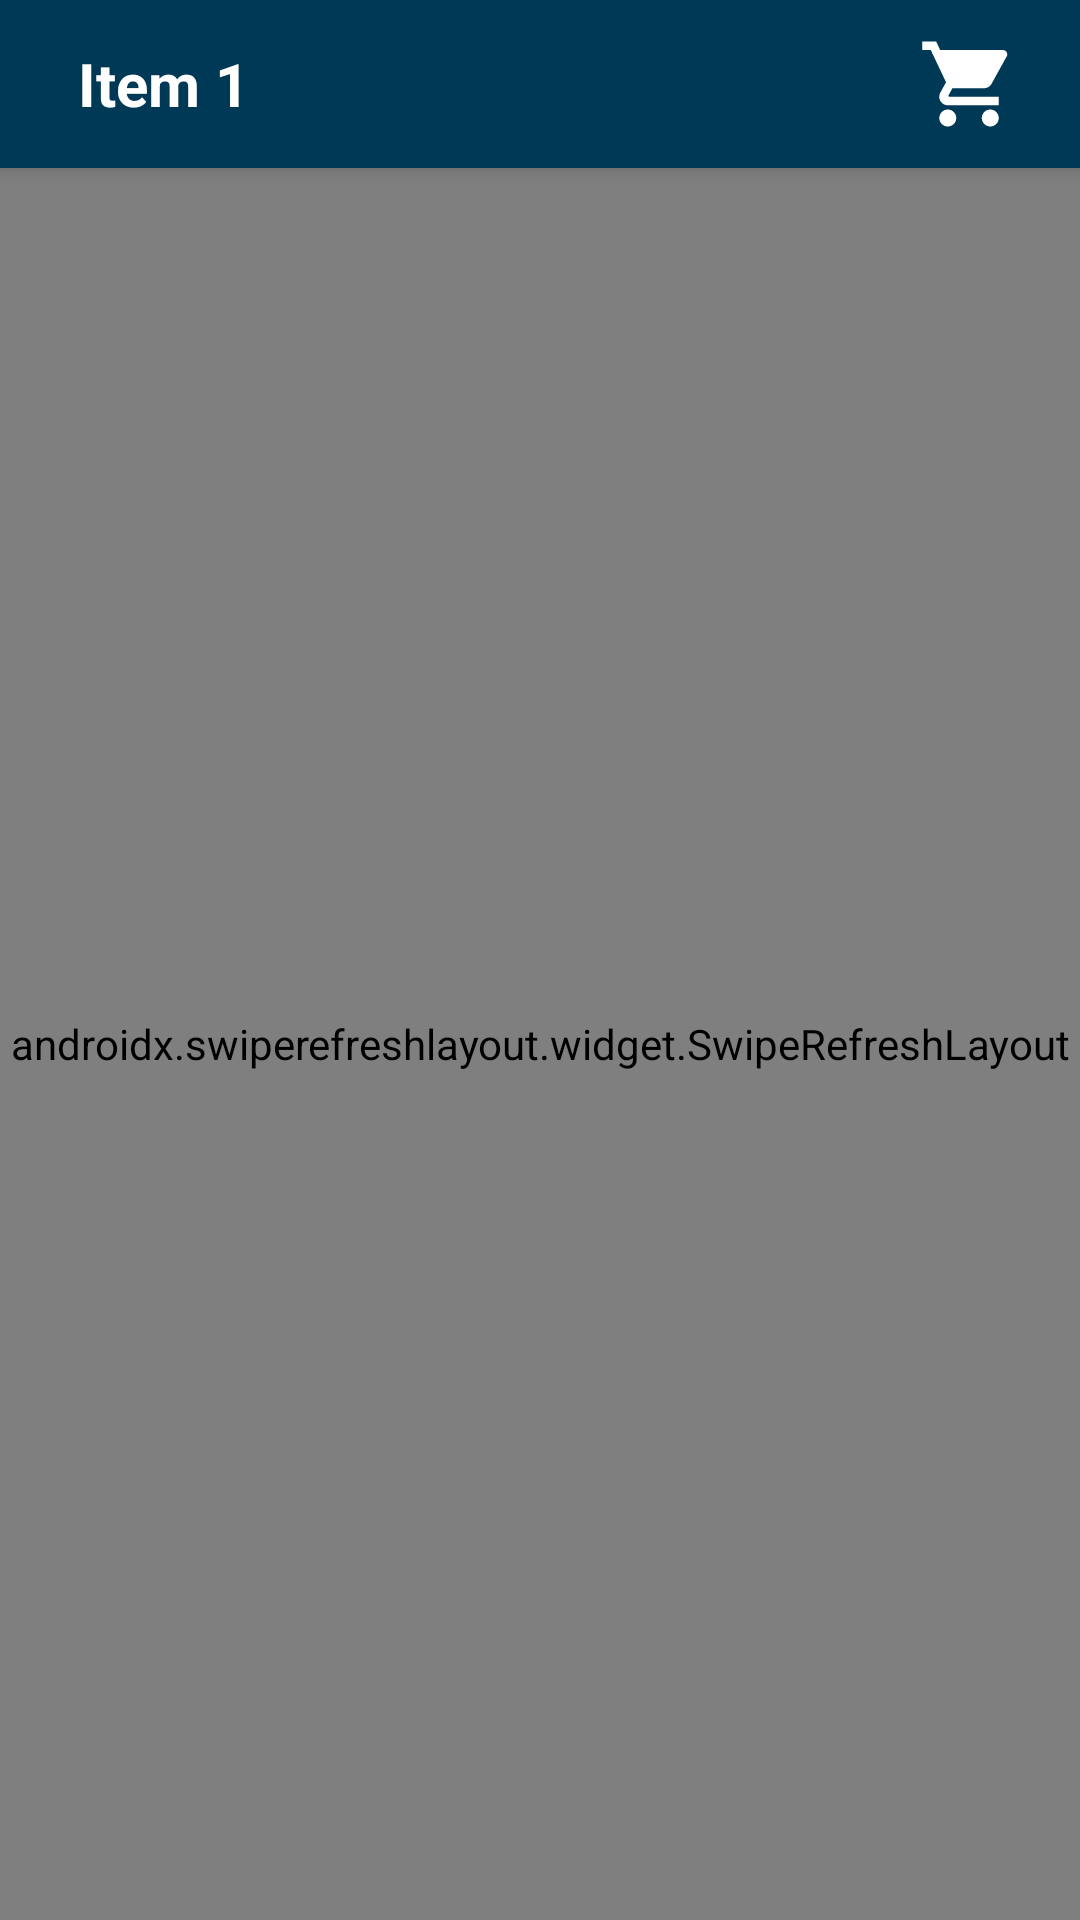

Screen size 1080*1920. Icon name, then its box in pixels as (x1, y1, x2, y2):
cart: (922, 41, 1008, 127)
